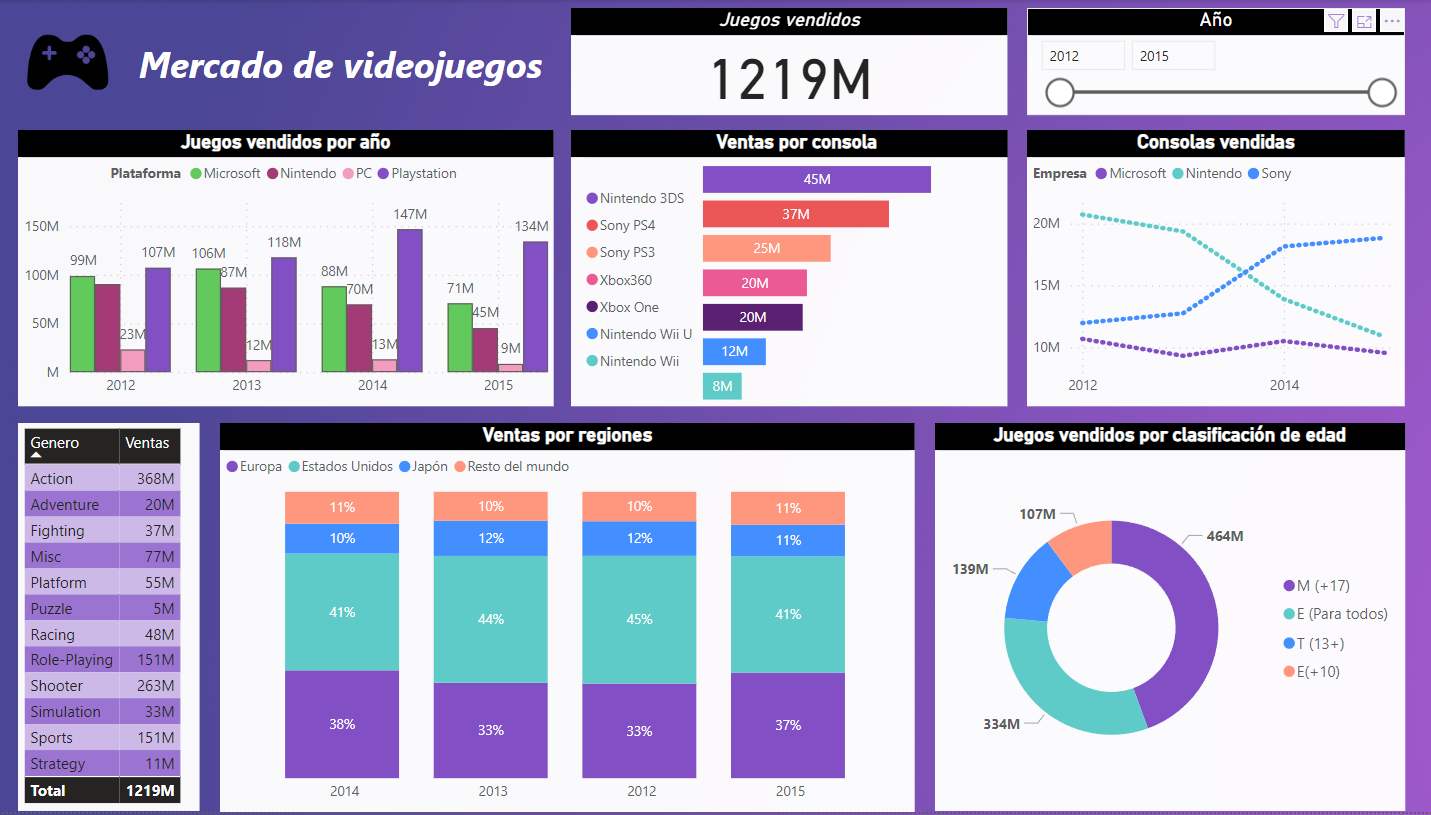

The page's visual inventory and layout, read from the dashboard file:
{"tool":"powerbi","page":{"name":"Page 1","canvas":[1280,720],"ordinal":0},"visuals":[{"type":"lineChart","title":"Consolas vendidas","fields":{"Category":["Ventas anual.Año"],"Y":["Sum(Ventas anual.Ventas)"],"Series":["Ventas anual.Empresa"]},"box":[920.4,115.3,335.2,244.7],"z":0},{"type":"clusteredColumnChart","title":"Juegos vendidos por año","fields":{"Category":["4  Video Games Sales.Año de estreno"],"Y":["Sum(4  Video Games Sales.Ventas totales)"],"Series":["4  Video Games Sales.Plataforma"]},"box":[25.7,115.3,475.3,244.7],"z":1000},{"type":"barChart","title":"Ventas por consola","fields":{"Y":["Sum(Ventas anual.Ventas)"],"Category":["Ventas anual.Consola"],"Series":["Ventas anual.Consola"]},"box":[516.1,115.3,387.5,244.7],"z":2000},{"type":"slicer","title":"Año","fields":{"Values":["4  Video Games Sales.Año de estreno"]},"box":[920.4,7.1,335.2,94.9],"z":3000},{"type":"tableEx","fields":{"Values":["4  Video Games Sales.Genero","Sum(4  Video Games Sales.Ventas totales)"]},"box":[25.7,375.1,152.5,344.9],"z":4000},{"type":"hundredPercentStackedColumnChart","title":"Ventas por regiones","fields":{"Category":["4  Video Games Sales.Año de estreno"],"Y":["Sum(4  Video Games Sales.Ventas Europa)","Sum(4  Video Games Sales.Ventas EEUU)","Sum(4  Video Games Sales.Ventas Japon)","Sum(4  Video Games Sales.Ventas Resto del mundo)"]},"box":[190.6,375.1,630.4,344.9],"z":5000},{"type":"donutChart","title":"Juegos vendidos por clasificación de edad","fields":{"Y":["Sum(4  Video Games Sales.Ventas totales)"],"Category":["4  Video Games Sales.Rango"]},"box":[838.8,375.1,416.7,344],"z":6000},{"type":"card","title":"Juegos vendidos","fields":{"Values":["Sum(4  Video Games Sales.Ventas totales)"]},"box":[516.1,7.1,387.5,94.9],"z":7000},{"type":"textbox","box":[127.7,29.3,385.7,64.7],"z":8000},{"type":"image","box":[25.7,7.1,87.8,94.9],"z":9000}]}

Visuals, with their boxes in screenshot pixels (x1, y1, x2, y2), scaled from the page's 1280x720 canvas onto the 1431x815 screenshot:
"Consolas vendidas" lineChart: crop(1029, 131, 1404, 408)
"Juegos vendidos por año" clusteredColumnChart: crop(29, 131, 560, 408)
"Ventas por consola" barChart: crop(577, 131, 1010, 408)
"Año" slicer: crop(1029, 8, 1404, 115)
tableEx - 4  Video Games Sales.Genero x Sum(4  Video Games Sales.Ventas totales): crop(29, 425, 199, 814)
"Ventas por regiones" hundredPercentStackedColumnChart: crop(213, 425, 918, 814)
"Juegos vendidos por clasificación de edad" donutChart: crop(938, 425, 1404, 814)
"Juegos vendidos" card: crop(577, 8, 1010, 115)
textbox: crop(143, 33, 574, 106)
image: crop(29, 8, 127, 115)
